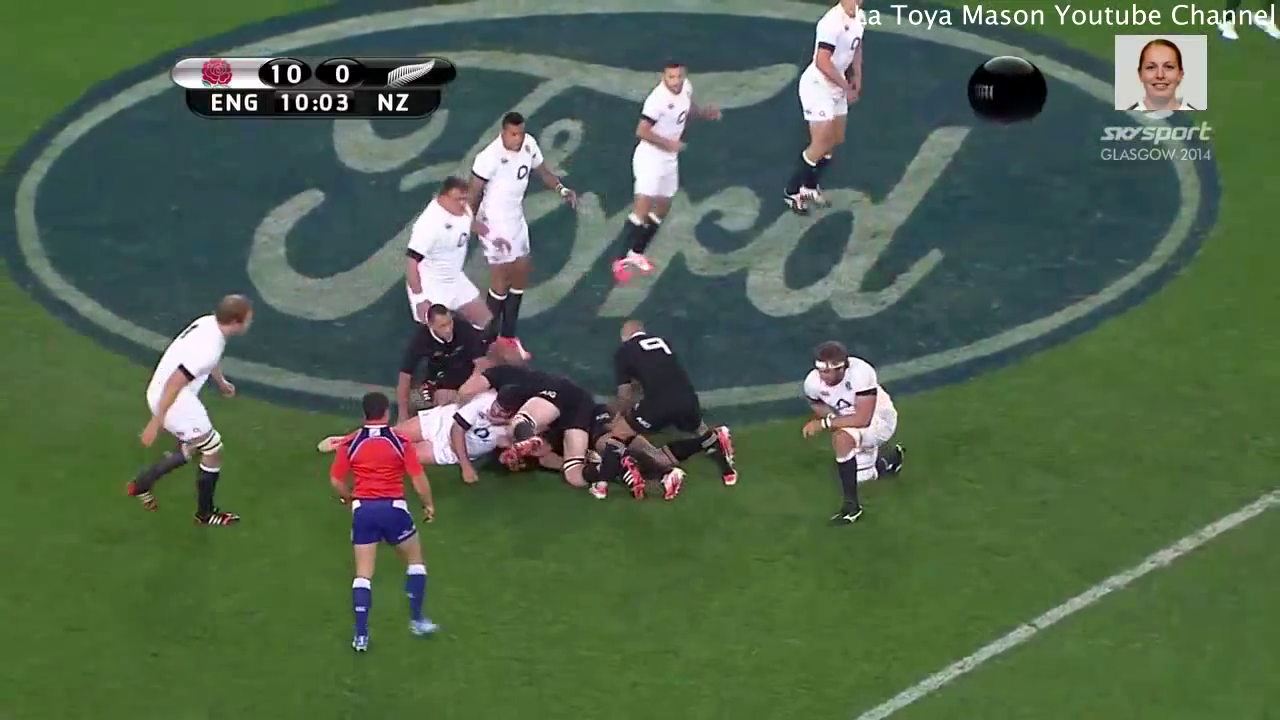player: (112, 281, 265, 546), (595, 46, 737, 284), (321, 375, 441, 654), (463, 93, 575, 366), (600, 314, 750, 516), (785, 340, 929, 531), (266, 383, 525, 475), (474, 344, 625, 501), (777, 1, 883, 217), (395, 165, 503, 364), (375, 289, 505, 409)
ruck: (319, 356, 777, 520)
